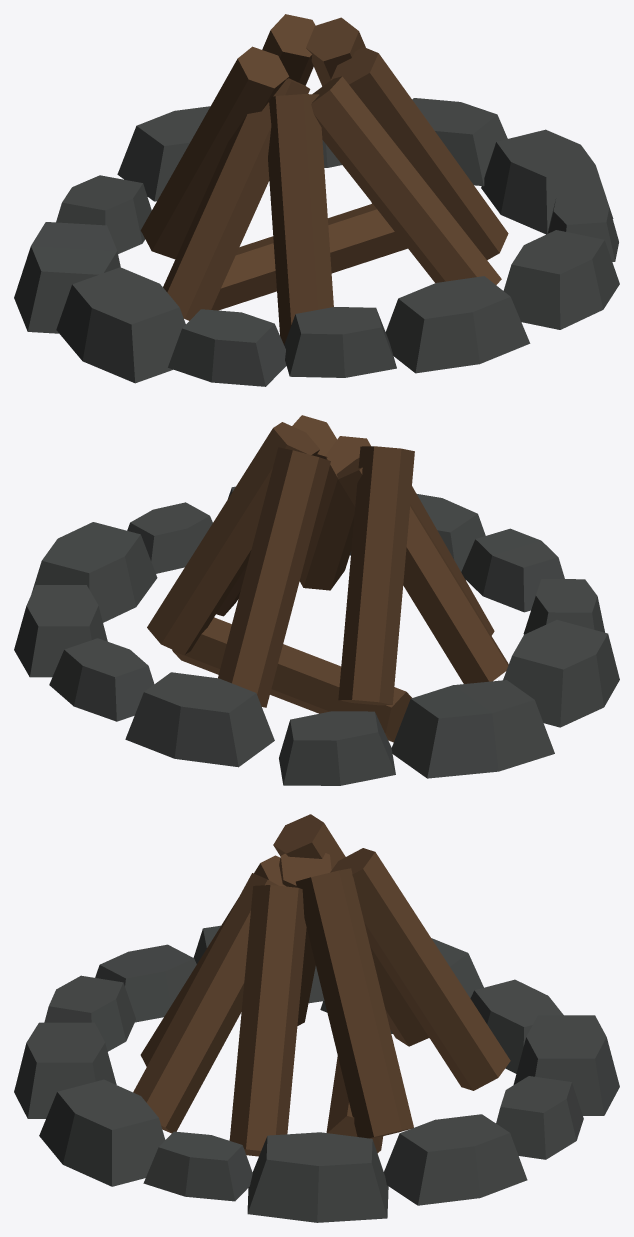
File: campfire.fbx
The picture shows the model from 3 angles, top to bottom: view 1: azimuth 30°, elevation 25°; view 2: azimuth 150°, elevation 25°; view 3: azimuth 270°, elevation 25°; orthographic projection. The views are drawn at different scales.
Visible parts, largest first — view 1: Cylinder.006, Cylinder.002, Cylinder.008, Cube.010, Cube.007, Cylinder.005, Cylinder.003, Cube.006, Cube.004, Cube.012, Cube.009, Cube.008 (+7 smaller); view 2: Cylinder.003, Cylinder, Cube.012, Cylinder.004, Cube, Cube.010, Cylinder.008, Cube.011, Cube.004, Cylinder.007, Cube.002, Cube.003 (+7 smaller); view 3: Cylinder.004, Cylinder.005, Cylinder, Cylinder.006, Cube.004, Cube.003, Cube.006, Cube, Cube.007, Cube.005, Cube.002, Cube.009 (+8 smaller).
Part boxes in pixels (x1,y1,x2,y2): Cylinder.006: [311, 76, 501, 284]; Cylinder.002: [268, 94, 333, 344]; Cylinder.008: [163, 78, 310, 320]; Cube.010: [56, 267, 185, 383]; Cube.007: [385, 276, 530, 373]; Cylinder.005: [331, 47, 508, 260]; Cylinder.003: [140, 46, 288, 259]; Cube.006: [503, 230, 619, 329]; Cube.004: [481, 129, 613, 234]; Cube.012: [14, 222, 120, 333]; Cube.009: [168, 309, 286, 386]; Cube.008: [284, 307, 396, 377]; Cylinder.003: [338, 446, 414, 705]; Cylinder: [218, 447, 330, 707]; Cube.012: [391, 680, 554, 778]; Cylinder.004: [147, 422, 319, 654]; Cube: [125, 672, 274, 767]; Cube.010: [503, 620, 619, 727]; Cylinder.008: [336, 458, 508, 683]; Cube.011: [279, 711, 395, 785]; Cube.004: [31, 522, 157, 622]; Cylinder.007: [172, 617, 411, 742]; Cube.002: [49, 638, 154, 721]; Cube.003: [14, 585, 107, 677]; Cylinder.004: [295, 868, 413, 1138]; Cylinder.005: [229, 885, 306, 1156]; Cylinder: [330, 848, 510, 1090]; Cylinder.006: [133, 873, 278, 1133]; Cube.004: [247, 1132, 388, 1222]; Cube.003: [384, 1114, 527, 1205]; Cube.006: [39, 1079, 165, 1186]; Cube: [513, 1015, 619, 1115]; Cube.007: [14, 1022, 116, 1118]; Cube.005: [143, 1131, 252, 1201]; Cube.002: [496, 1076, 583, 1159]; Cube.009: [95, 944, 196, 1022].
Bounding box in the file's own units: 872 × 422 × 822.
